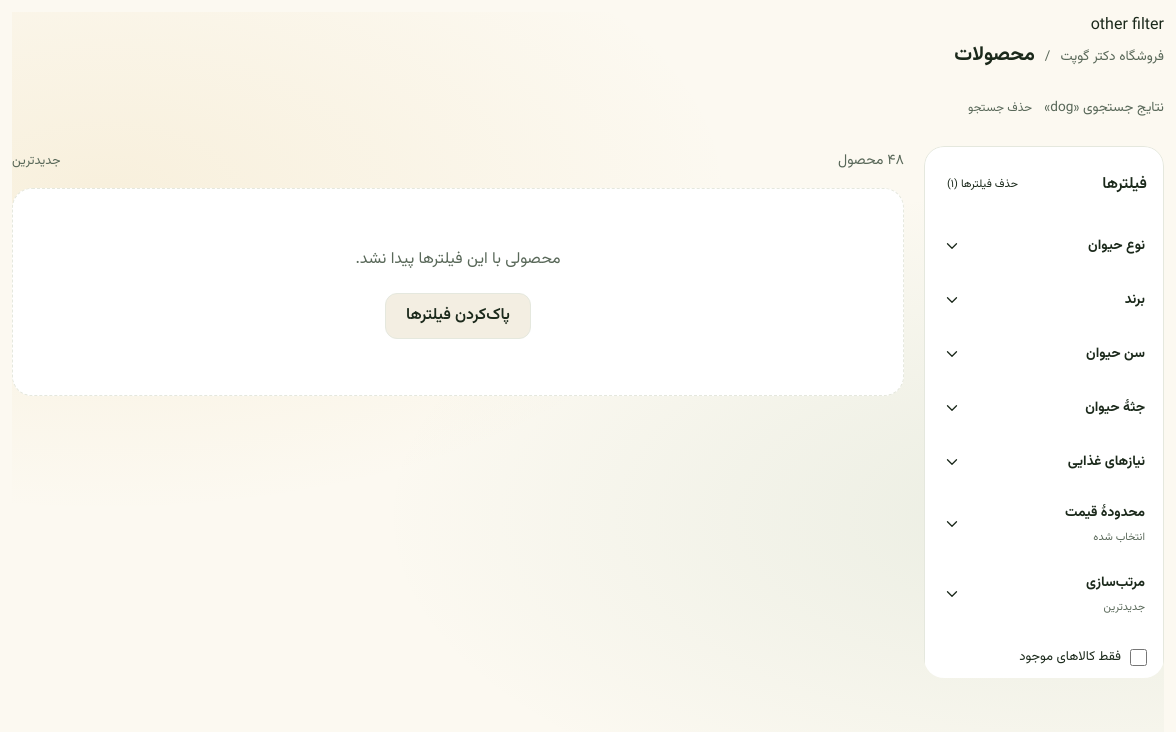
Test: catalog filters › uses navbar search URL and updates price drafts on browser navigation, without a duplicate search form
The width and height of the screenshot is (1176, 732).
Expected: the element named "minPrice" holds "۱۰۰", [941,489,1147,559]
What coordinates should you click on to do the following:
click the link "other filter"
I would click on:
 (1127, 26)
Its box is [1091,13,1164,38].
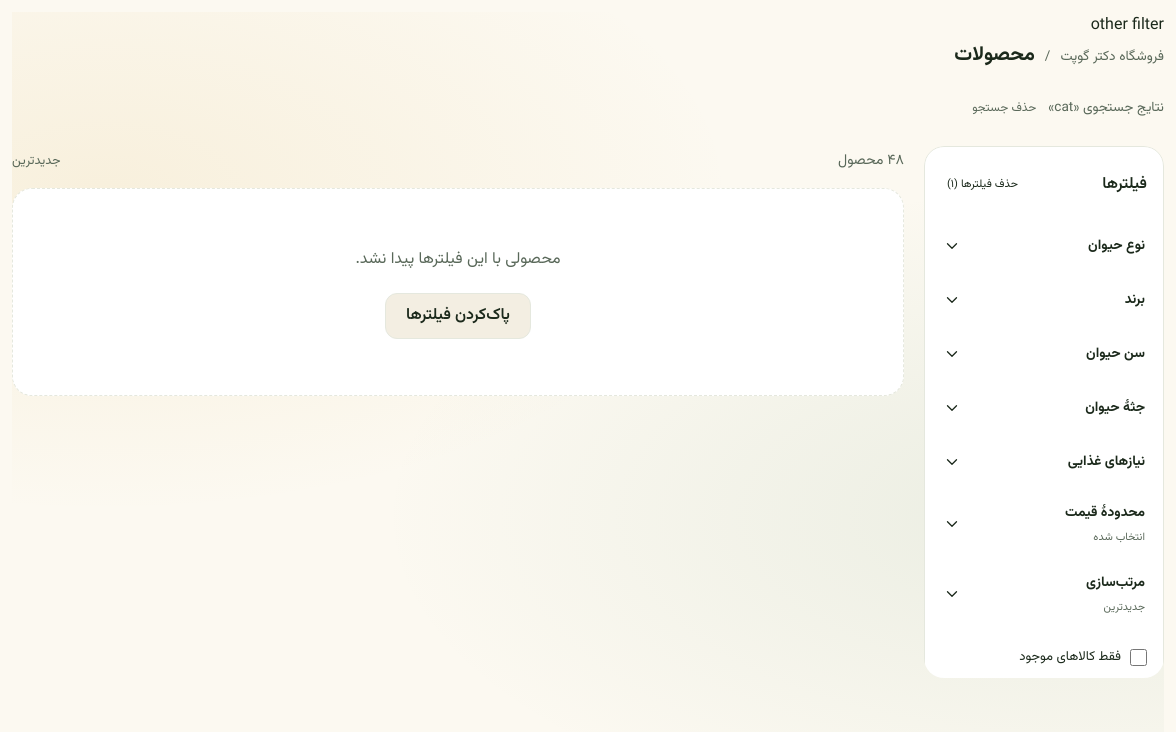
Expected: the element named "minPrice" holds "۲۰۰", [941,489,1147,559]
Expected: the text "cat" is shown, [1054,97,1073,118]
